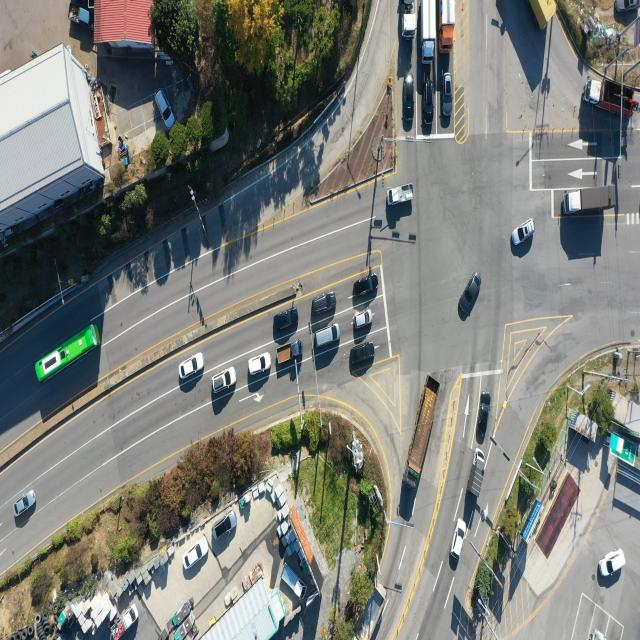car: (461, 272, 484, 317), (185, 539, 210, 572), (156, 88, 175, 128), (600, 550, 627, 578), (313, 323, 340, 349), (478, 394, 492, 444), (512, 217, 535, 247), (214, 510, 236, 540), (211, 367, 237, 392), (349, 342, 375, 367), (182, 353, 206, 379), (352, 274, 378, 298), (274, 308, 299, 332), (452, 518, 467, 558), (248, 351, 271, 375), (14, 491, 36, 516), (312, 294, 337, 316), (406, 74, 416, 128), (444, 75, 454, 121), (424, 80, 434, 125), (353, 310, 372, 329), (615, 0, 639, 13)
large_bus: (38, 323, 102, 385)
large_truck: (533, 0, 557, 26)
medium_truck: (408, 375, 440, 484), (354, 575, 387, 640), (586, 79, 637, 120), (562, 190, 614, 218), (420, 0, 439, 62), (439, 0, 455, 50), (404, 0, 418, 38)
small_truck: (278, 558, 308, 596), (114, 599, 138, 640), (471, 449, 488, 498), (68, 1, 92, 29), (276, 341, 301, 366), (390, 186, 416, 208)
